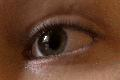eye: (37, 28, 69, 58)
